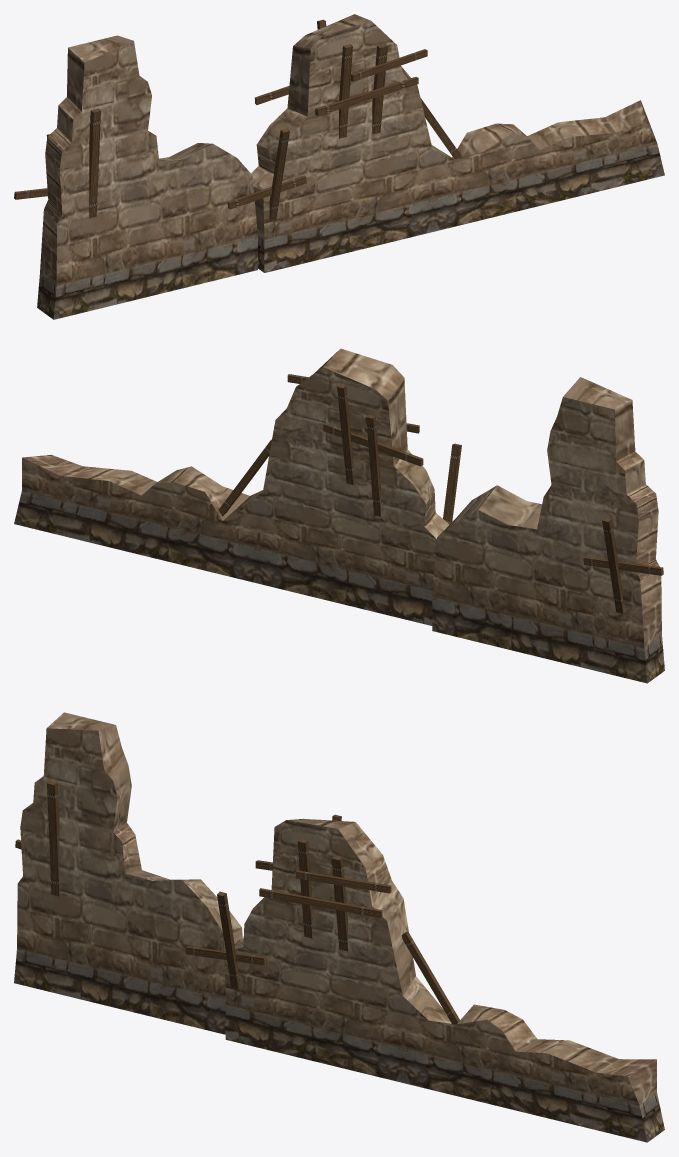
Rendered from 4008_Item_poqiang_2.FBX.
3 views of the same model, one above another, from view 1: azimuth 30°, elevation 25°; view 2: azimuth 150°, elevation 25°; view 3: azimuth 330°, elevation 25° (orthographic). The views are drawn at different scales.
Visible parts, largest first — view 1: 4008_Item_poqiang_2; view 2: 4008_Item_poqiang_2; view 3: 4008_Item_poqiang_2.
Boxes of the visible parts, x1,y1,x2,y2 form: 4008_Item_poqiang_2: (14,14,664,319); 4008_Item_poqiang_2: (14,348,664,683); 4008_Item_poqiang_2: (14,712,664,1142).
Bounding box in the file's own units: 2528 × 1003 × 340.
